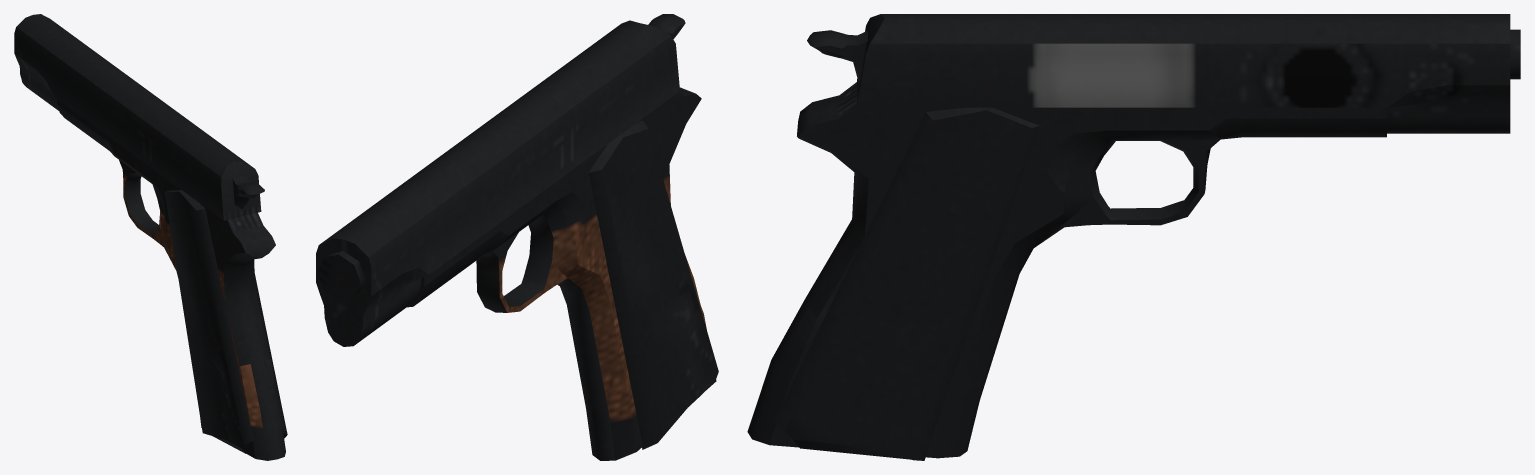
3 views of the same model, side by side, from view 1: azimuth 30°, elevation 25°; view 2: azimuth 150°, elevation 25°; view 3: azimuth 270°, elevation 25° (orthographic). The views are drawn at different scales.
Visible parts, largest first — view 1: M1911_LP; view 2: M1911_LP; view 3: M1911_LP.
Part boxes in pixels (x1,y1,x2,y2): M1911_LP: [14, 14, 287, 460]; M1911_LP: [316, 14, 718, 460]; M1911_LP: [747, 14, 1520, 460].
Bounding box in the file's own units: 0.0151 × 0.149 × 0.0921.
